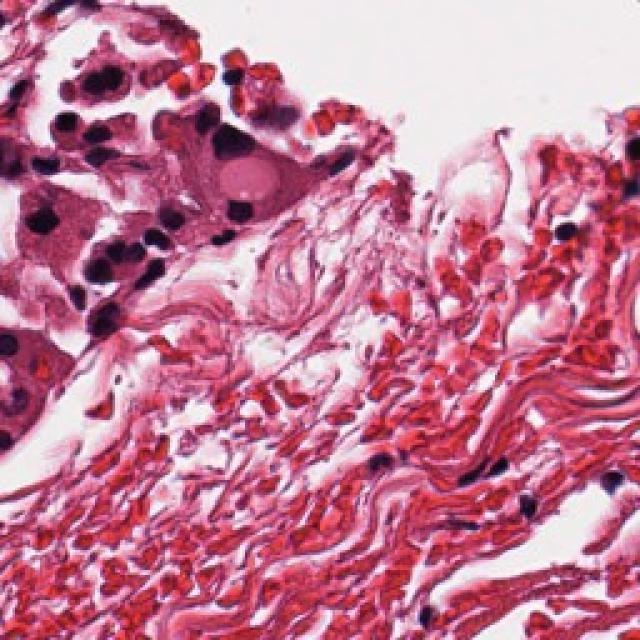normal: (0, 190, 88, 272), (193, 171, 272, 243), (209, 106, 279, 178), (0, 308, 42, 394), (0, 381, 47, 439)
